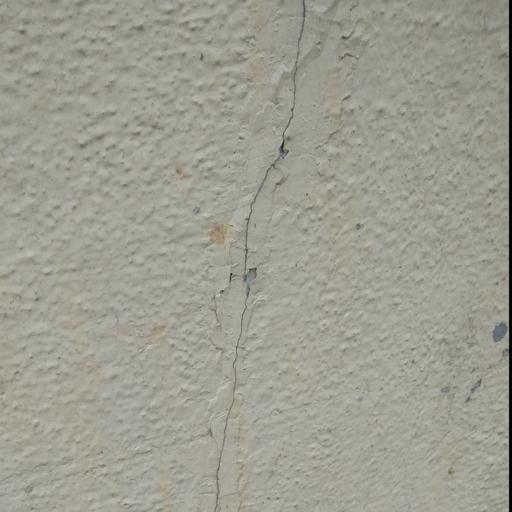minor_crack: (196, 0, 321, 512)
